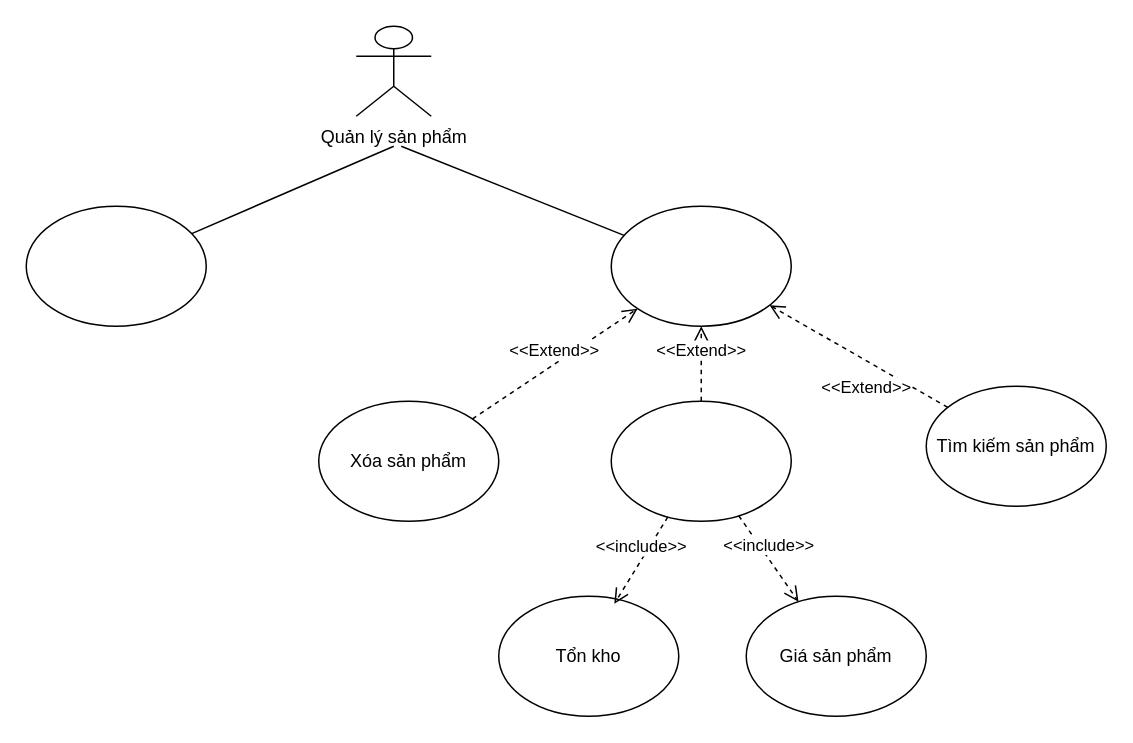
This 1133x743 diagram has some shape labels left out. Here are the shapes that lost their labels. From the top down, the centre of each, then its label:
point 115,265: Đăng sản phẩm mới
point 700,265: Xem danh sách sản phẩm
point 700,460: Chỉnh sửa sản phẩm
